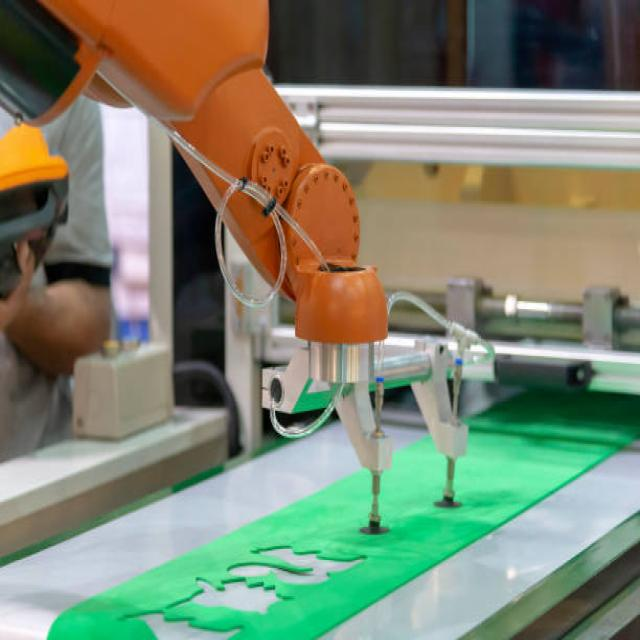Robotic-arm: (3, 0, 425, 431)
